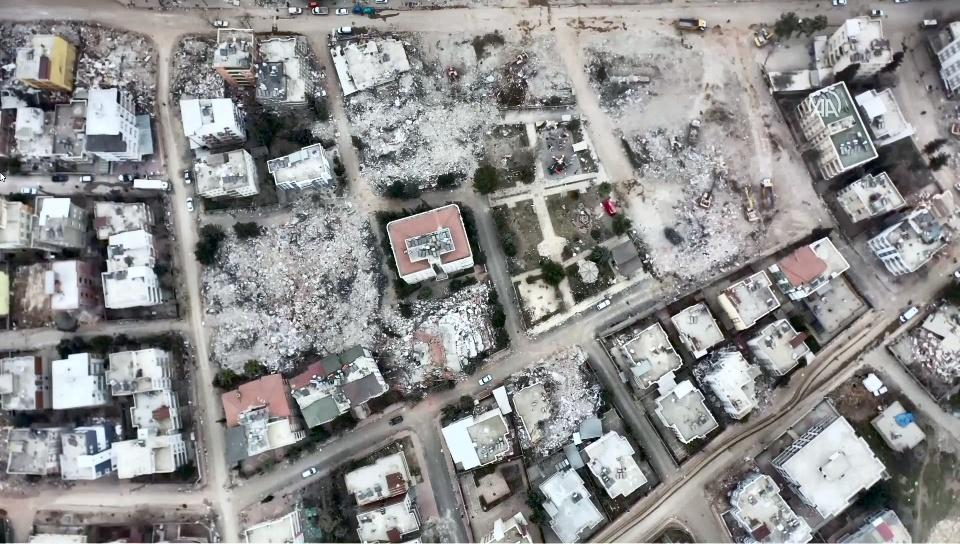kapali: (346, 183, 433, 413), (635, 226, 779, 312)
